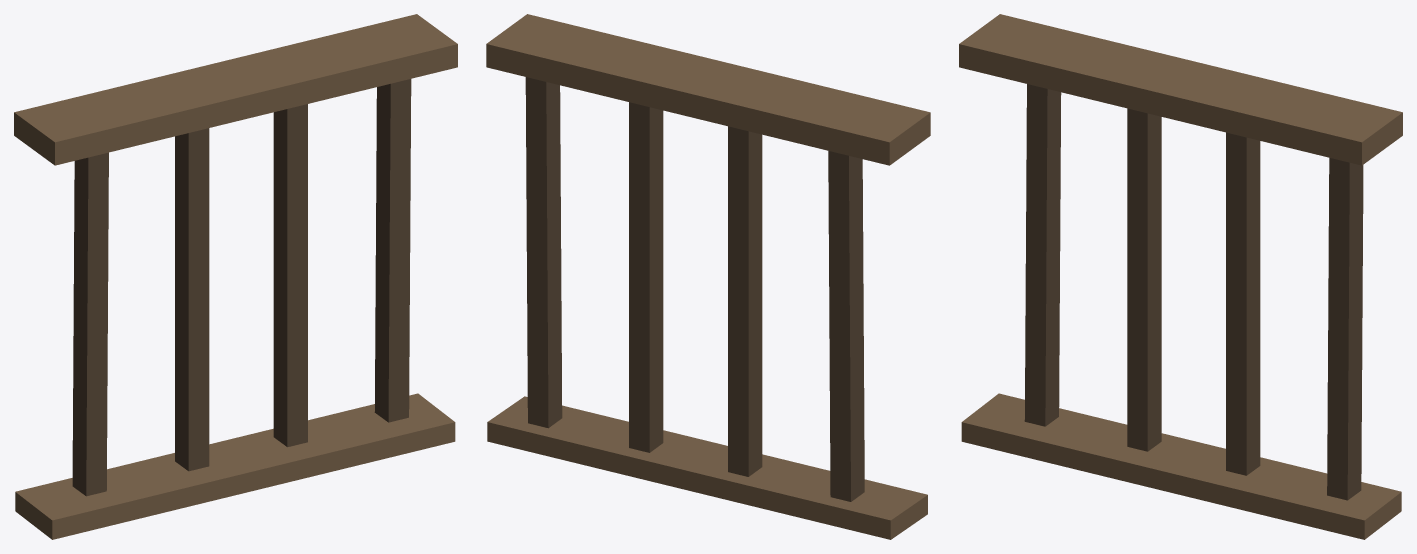
The model's file is SM_Bld_House_Interior_Rail_04.fbx.
3 renders of one model, left to right at view 1: azimuth 30°, elevation 25°; view 2: azimuth 150°, elevation 25°; view 3: azimuth 330°, elevation 25°, orthographic.
Visible parts, largest first — view 1: SM_Bld_House_Interior_Rail_04; view 2: SM_Bld_House_Interior_Rail_04; view 3: SM_Bld_House_Interior_Rail_04.
Boxes of the visible parts, left/top/right/bottom form: SM_Bld_House_Interior_Rail_04: left=14, top=14, right=457, bottom=539; SM_Bld_House_Interior_Rail_04: left=486, top=14, right=930, bottom=539; SM_Bld_House_Interior_Rail_04: left=959, top=14, right=1402, bottom=539.
Size of the model in its own units: 96.98 by 91.9 by 17.09.
